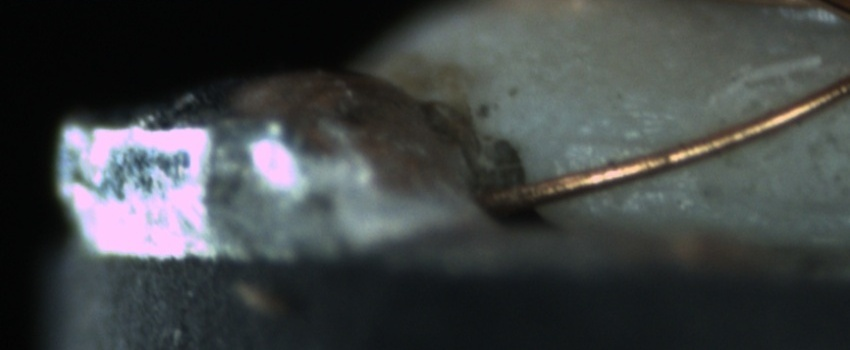DL: (554, 113, 672, 167)
